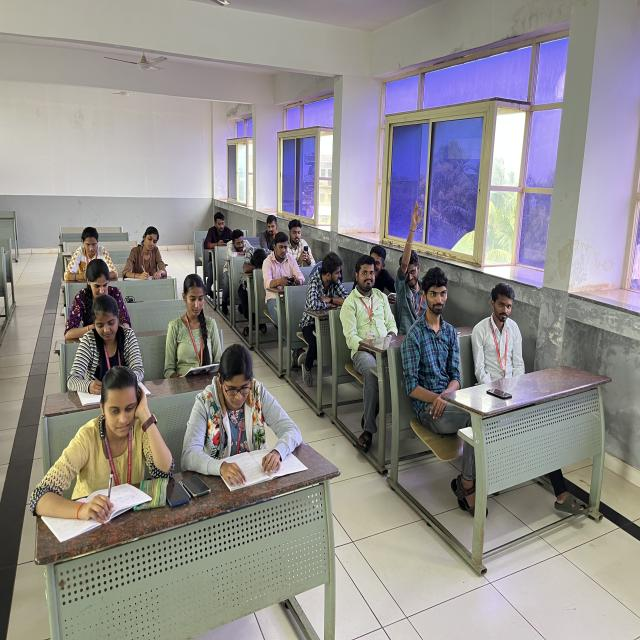Hand Rising: (393, 166, 431, 332)
Reading: (186, 352, 301, 508), (163, 266, 223, 384)
Sleeping: (242, 238, 273, 294)
Using Phone: (64, 258, 130, 332), (52, 220, 114, 290), (366, 229, 401, 310), (265, 229, 302, 301), (278, 213, 324, 267), (205, 202, 238, 258)
Writing: (68, 303, 149, 440), (125, 204, 179, 307)
